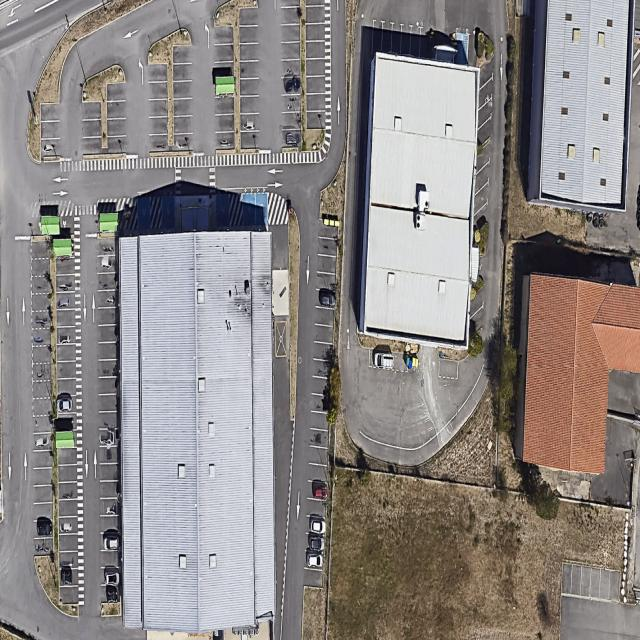immeuble: (116, 231, 276, 633), (355, 51, 479, 347), (525, 0, 637, 214)
maison: (522, 274, 640, 473)
